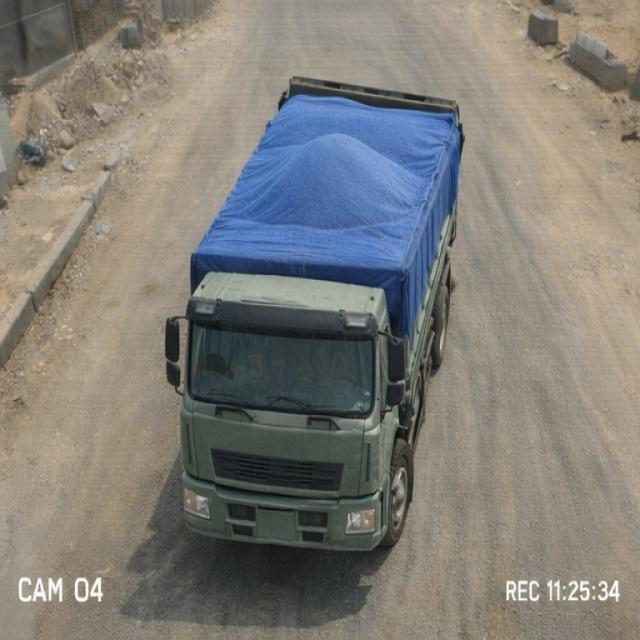Box: (192, 74, 466, 260)
Truck: (164, 27, 470, 549)
